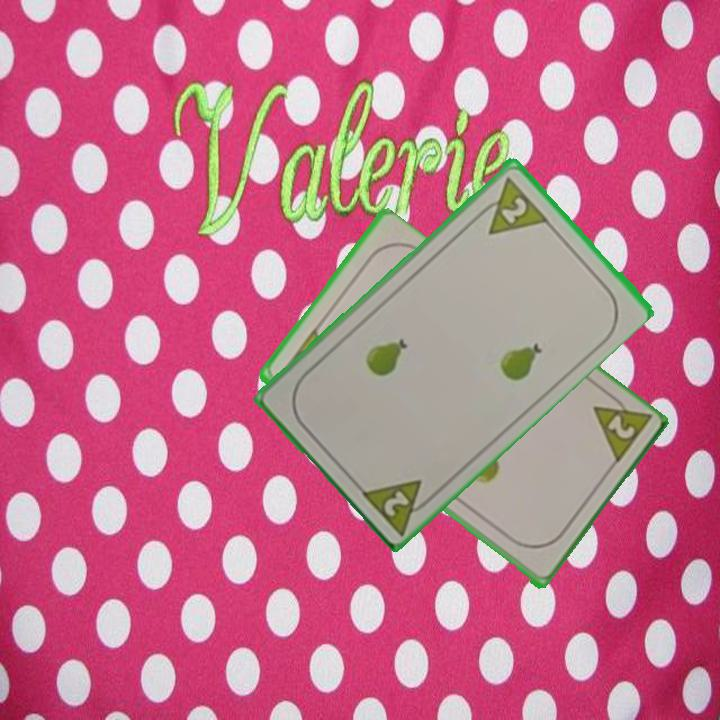2p: (588, 386, 653, 469), (471, 172, 550, 238), (356, 475, 440, 537)
